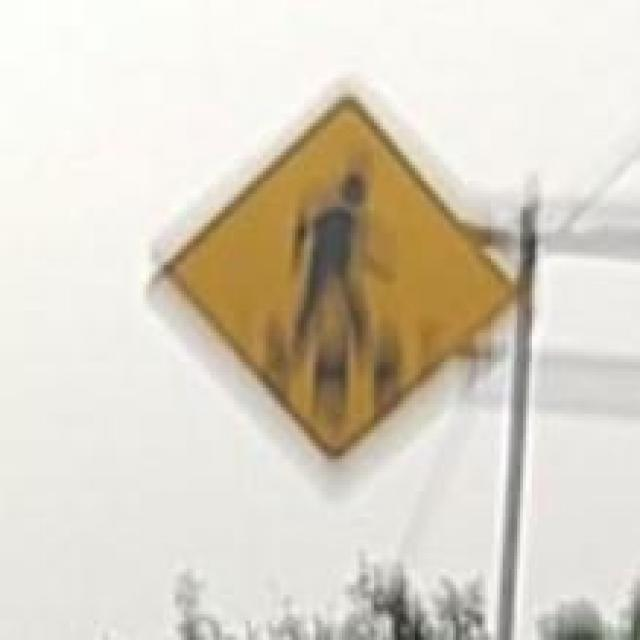traffic sign: (193, 97, 520, 450)
